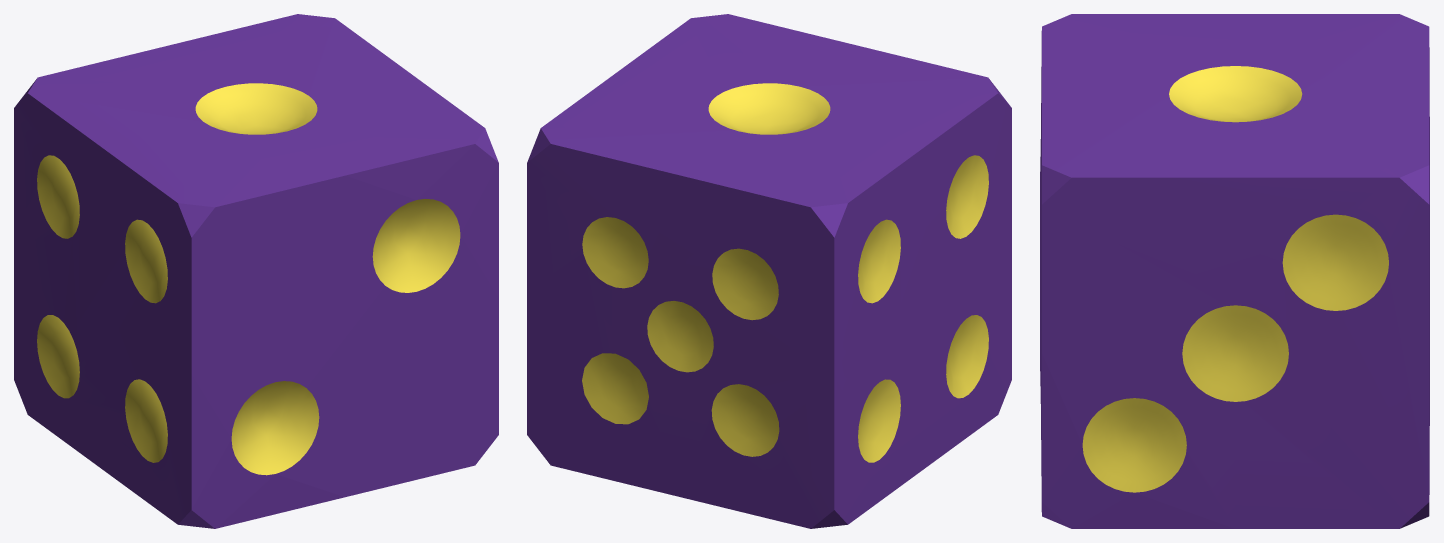
File: Dice_Purple.fbx
3 renders of one model, left to right at view 1: azimuth 30°, elevation 25°; view 2: azimuth 150°, elevation 25°; view 3: azimuth 270°, elevation 25°, orthographic. The views are drawn at different scales.
Parts seen in each view (by area): view 1: Dice_Purple; view 2: Dice_Purple; view 3: Dice_Purple.
Boxes of the visible parts, x1,y1,x2,y2 form: Dice_Purple: (14, 14, 498, 528); Dice_Purple: (527, 14, 1011, 528); Dice_Purple: (1040, 14, 1429, 528).
Bounding box in the file's own units: 110 × 111 × 111.
